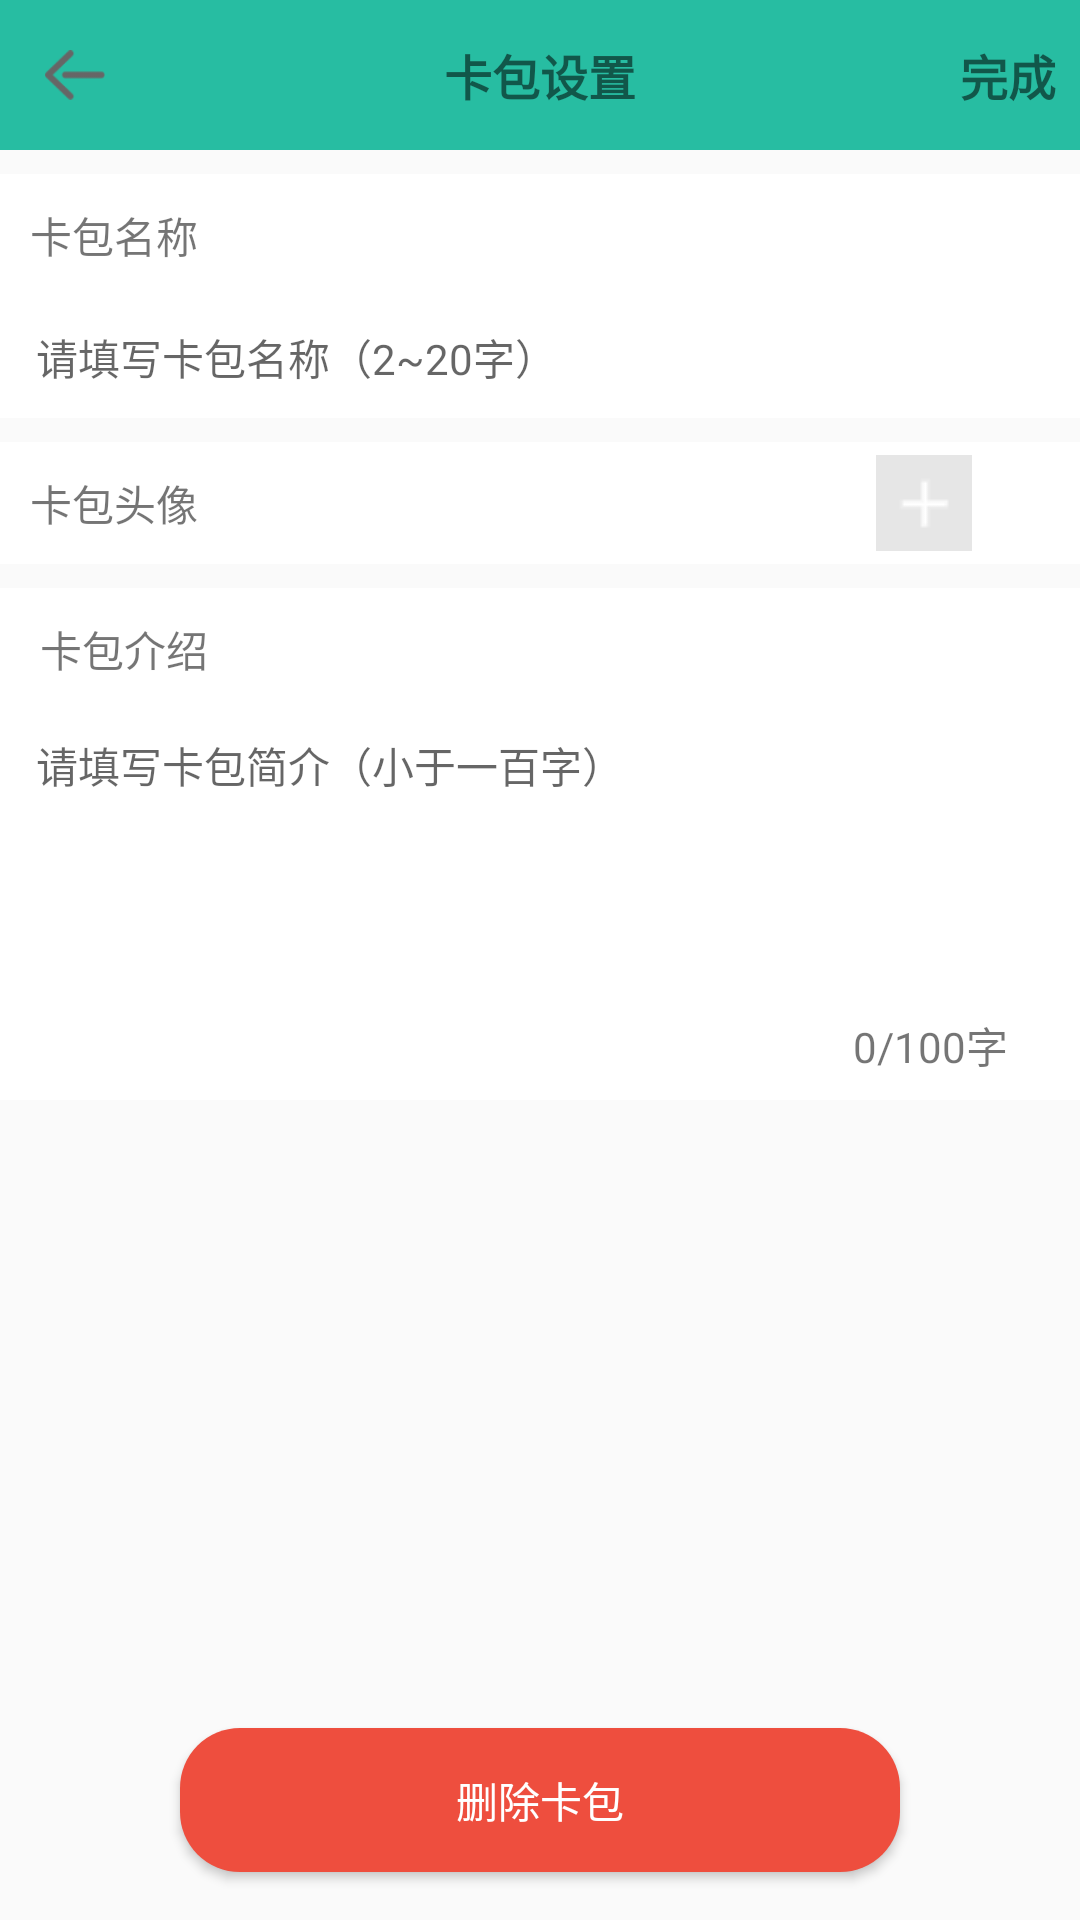

Icon bounding boxes for this 1080×1920 phone screenshot, format (x1, y1, x2, y2):
add: (876, 455, 972, 551)
back: (45, 50, 105, 100)
